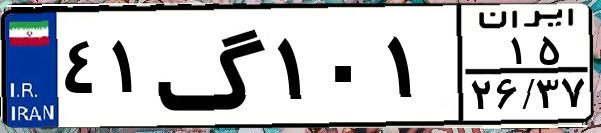0: (330, 28, 385, 110)
1: (270, 28, 330, 110), (385, 28, 445, 110), (110, 28, 156, 98), (508, 27, 537, 80)
2: (470, 70, 495, 125)
3: (535, 70, 560, 125)
4: (57, 26, 110, 100)
5: (537, 27, 568, 80)
6: (495, 70, 520, 125)
7: (560, 70, 590, 125)
گ: (156, 12, 270, 120)
